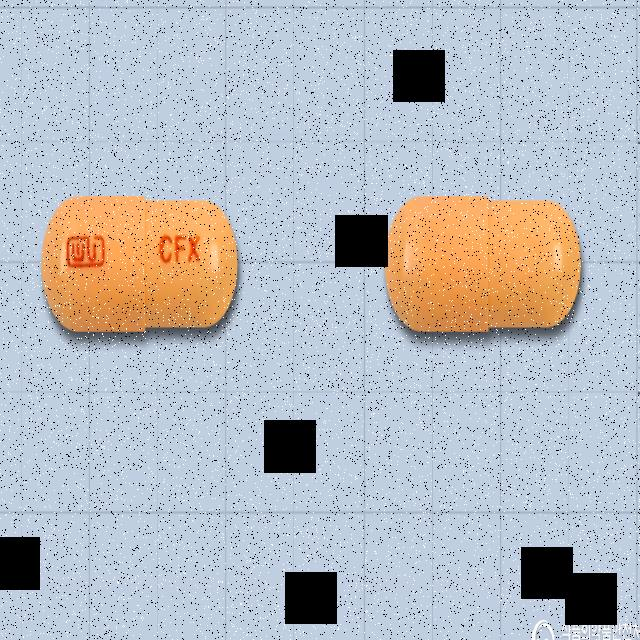Cefixime Cap- Withus: (39, 189, 244, 346)
